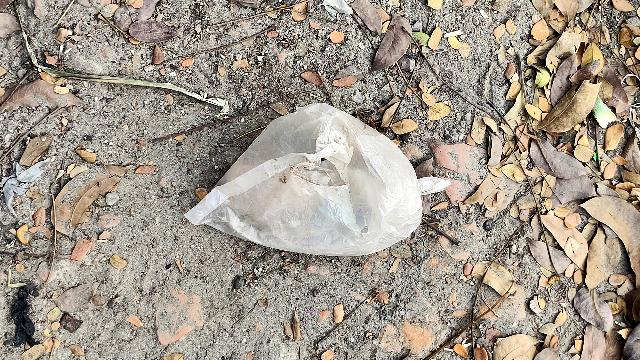polythene: (200, 92, 429, 295)
